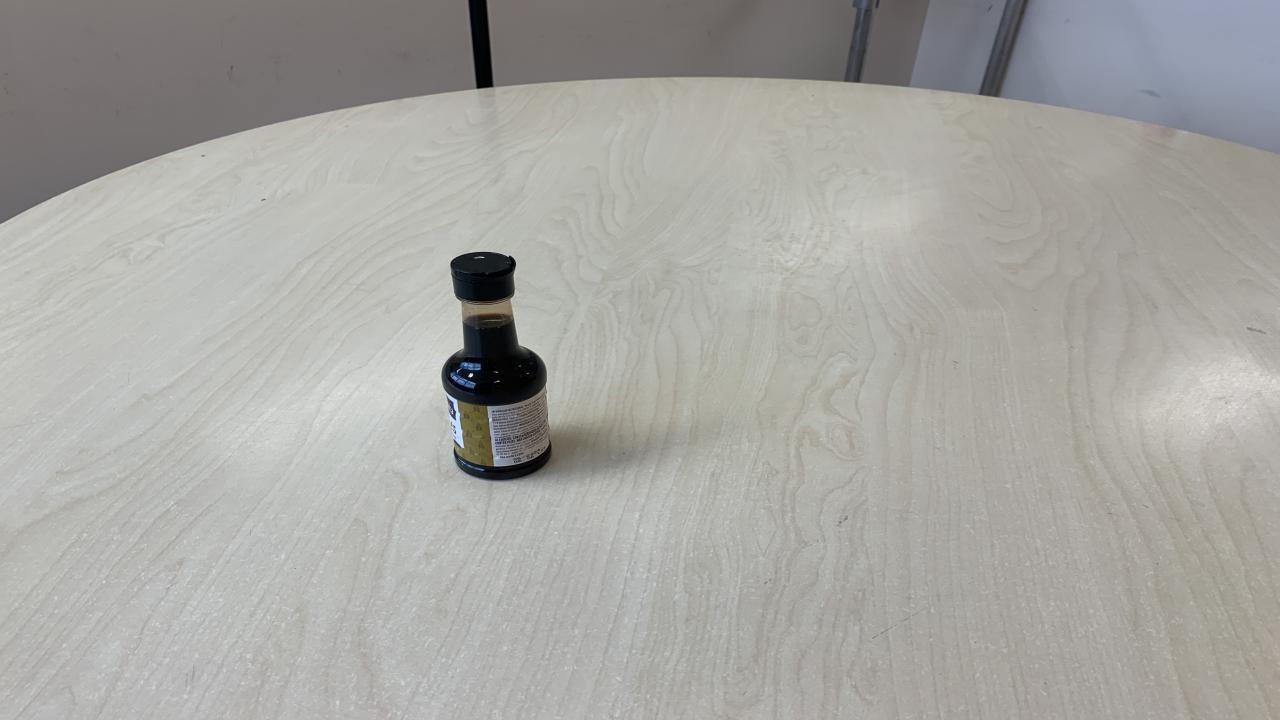English_Sauce-Pantry_Items: (439, 253, 553, 483)
